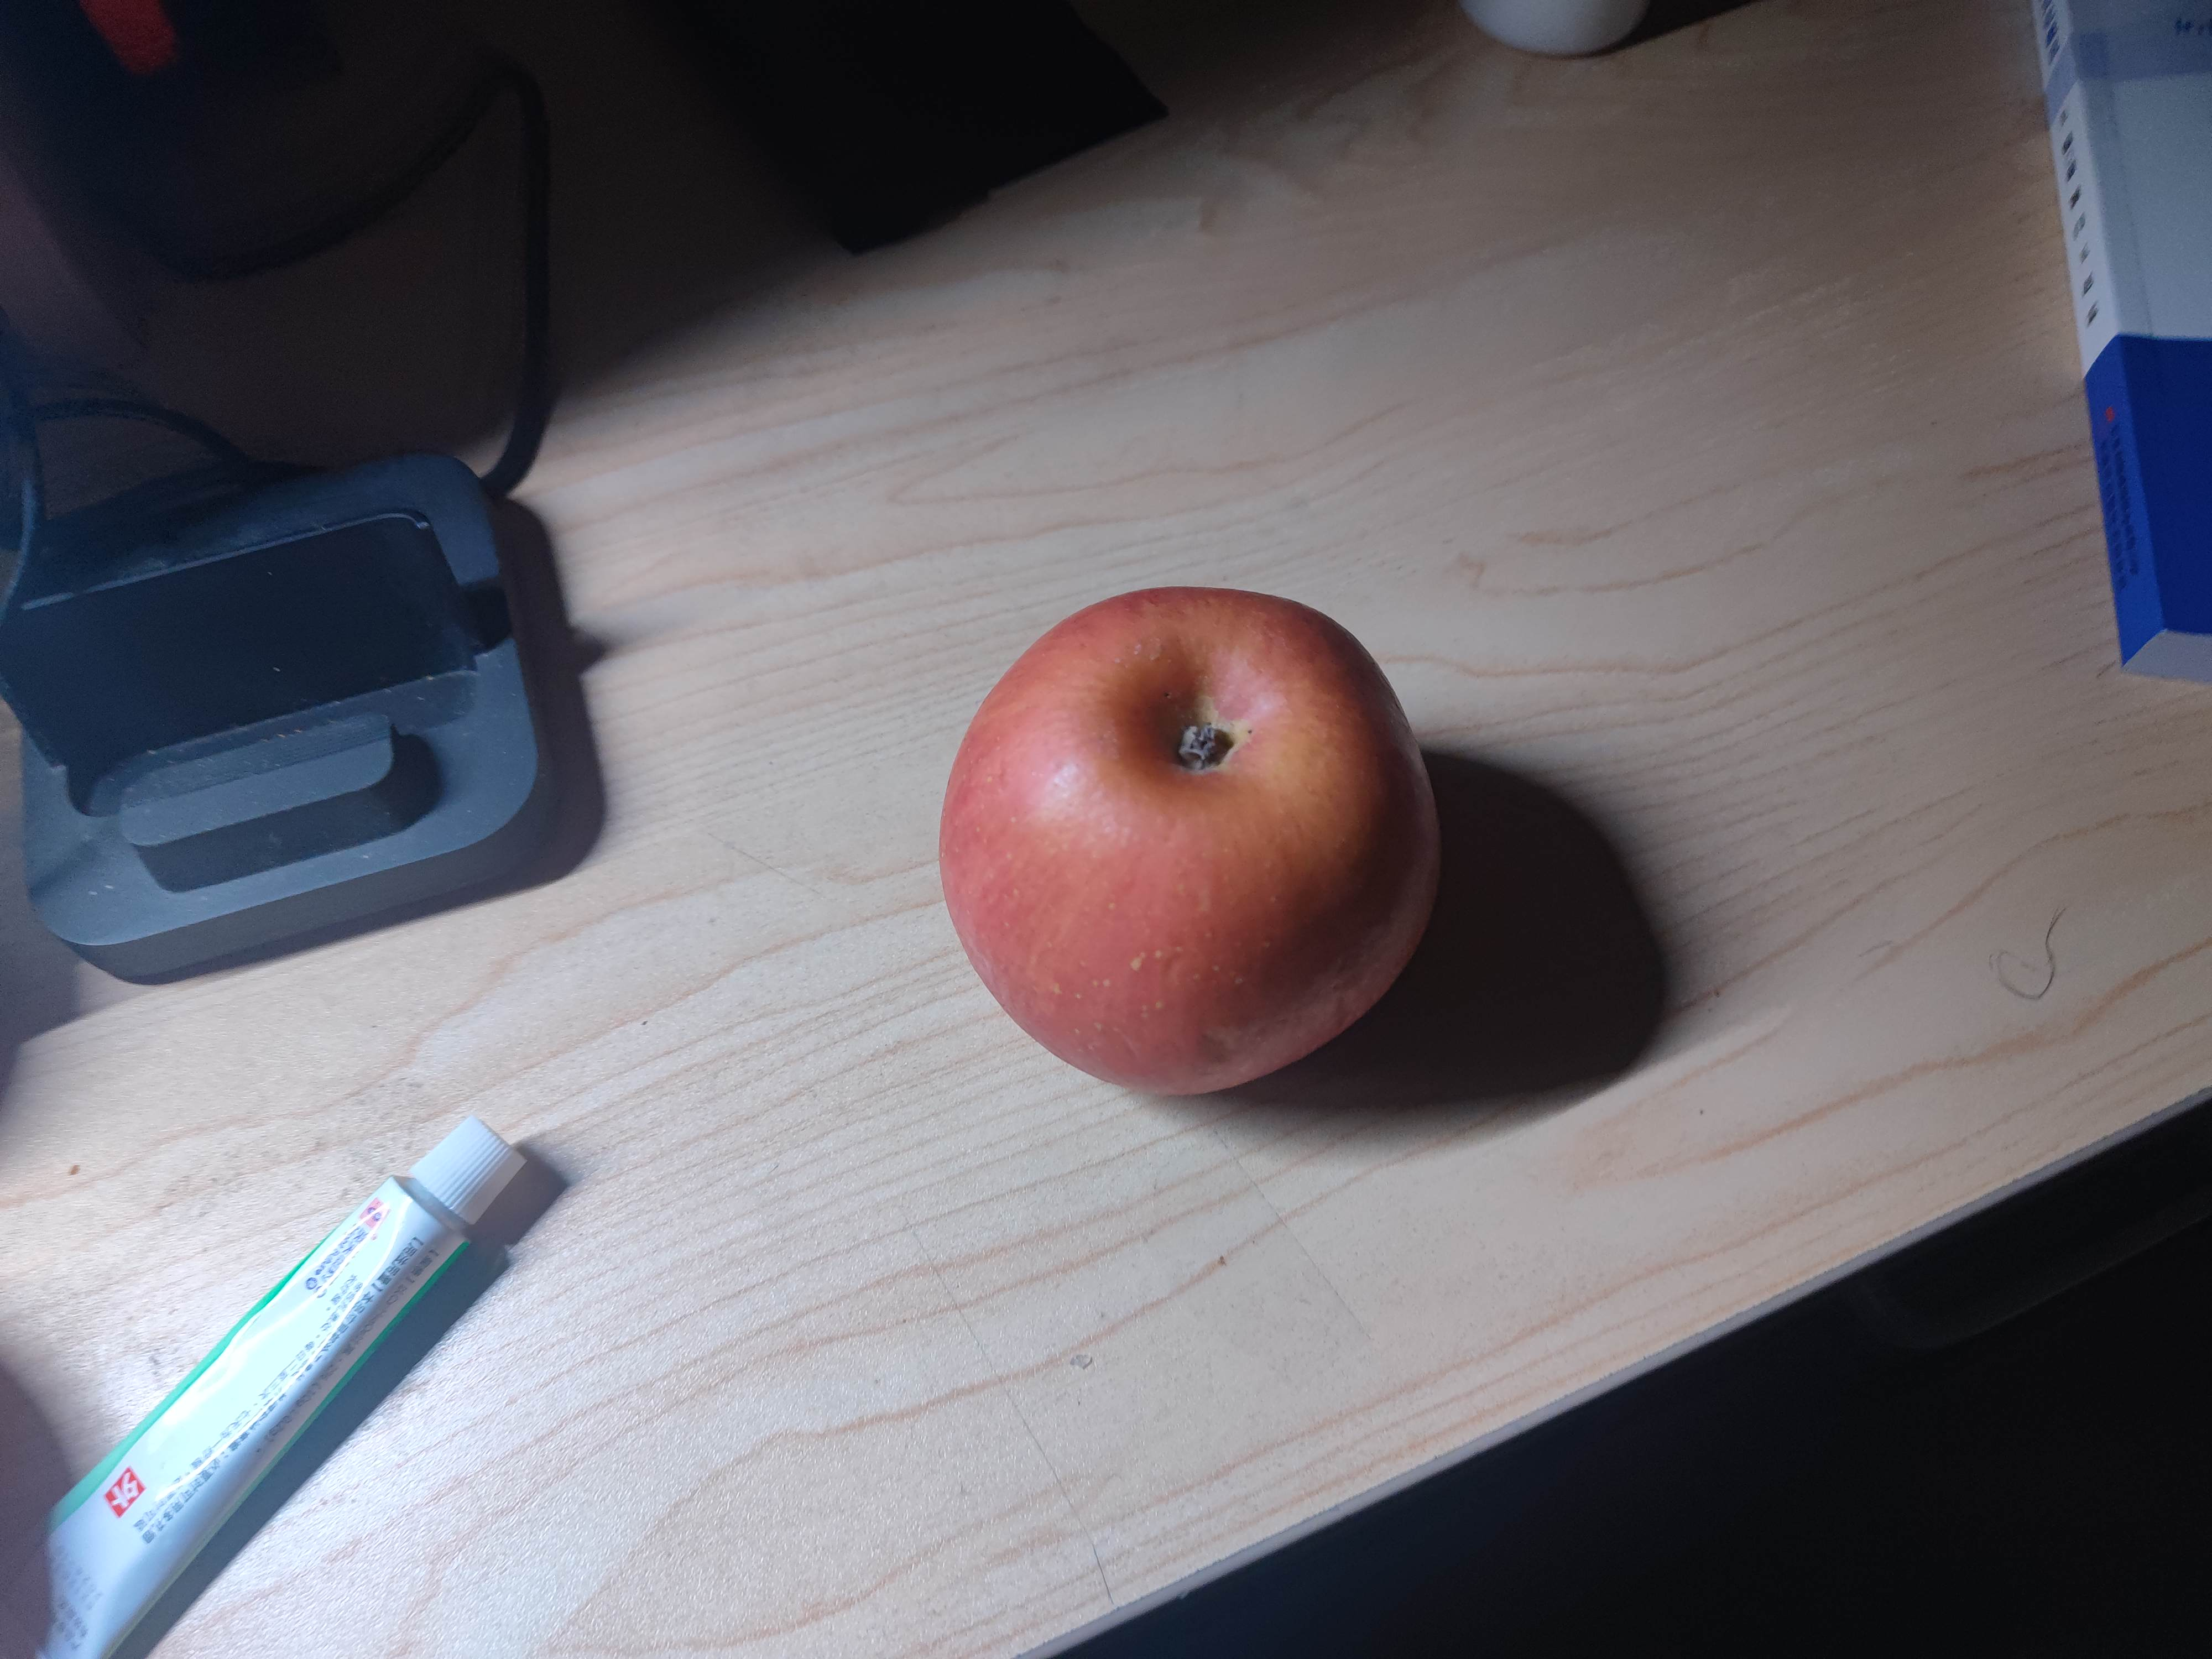apple: (944, 584, 1444, 1101)
